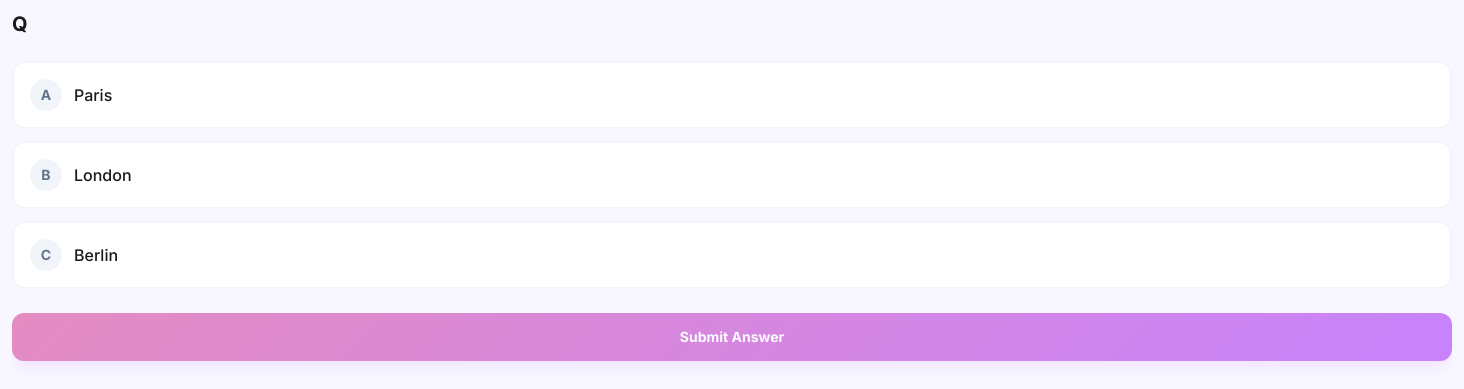
Test case: MCQCard › disables the Submit Answer button until an option is selected
The image size is (1464, 389).
Expected: the button "Submit Answer" is disabled, 12,313 -> 1452,361
Click the text "Paris" at (93, 95), box 74,83 -> 112,107
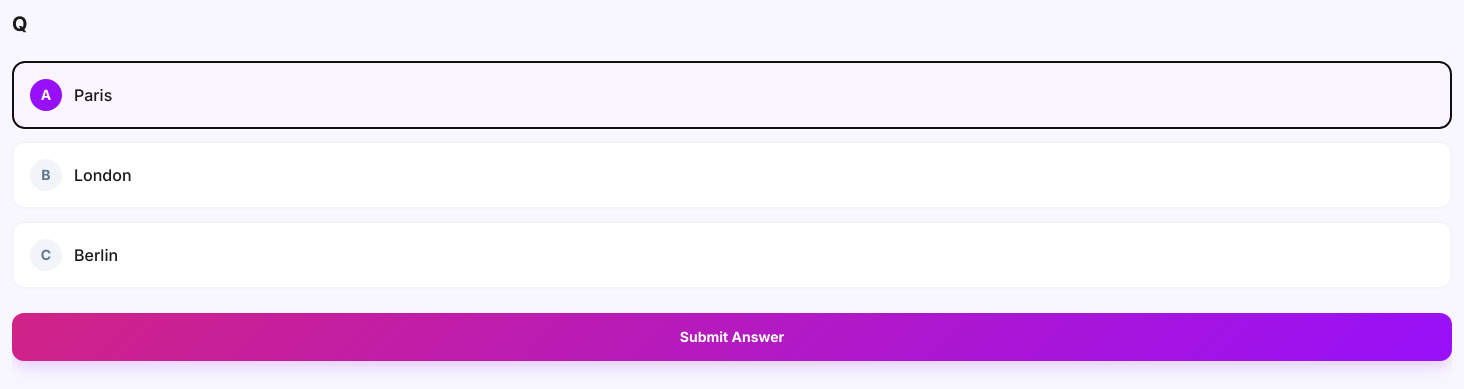
Now the button "Submit Answer" is enabled, box 12,313 -> 1452,361
